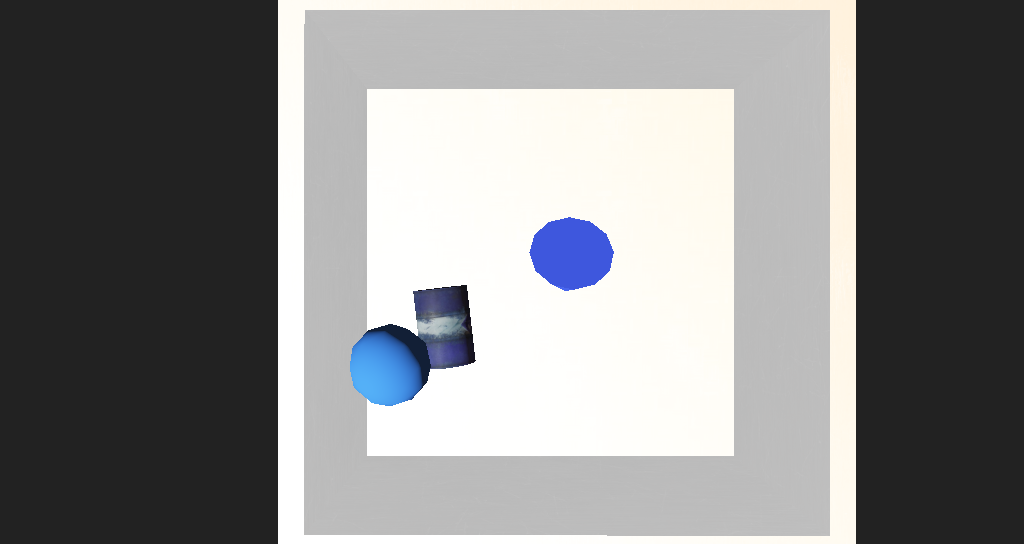cone: (391, 277, 445, 324)
cylinder: (485, 241, 552, 303)
sphere: (337, 296, 404, 344)
